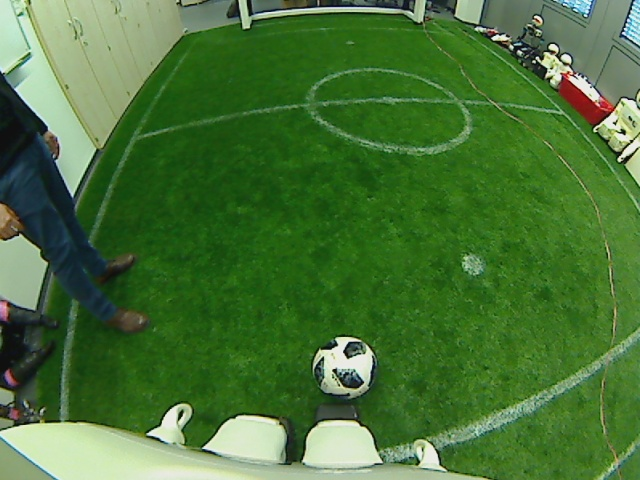ball: (309, 334, 378, 400)
